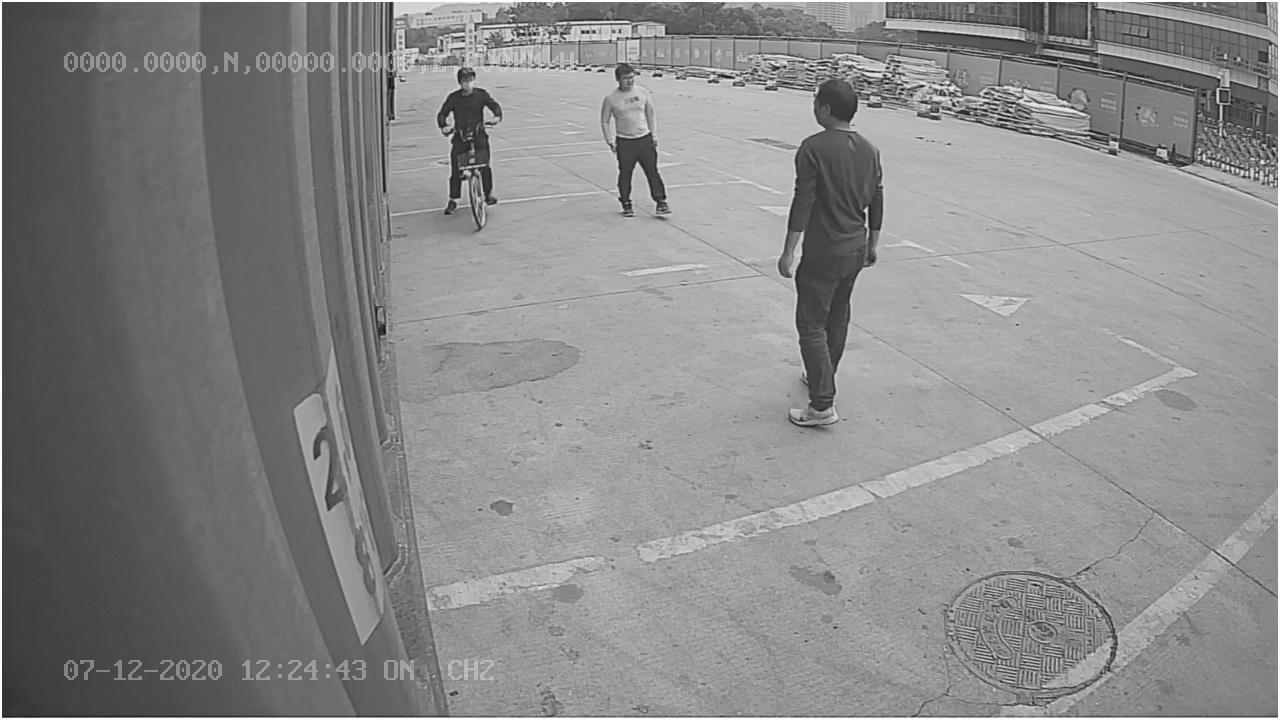person: (772, 73, 890, 432), (596, 60, 679, 226)
